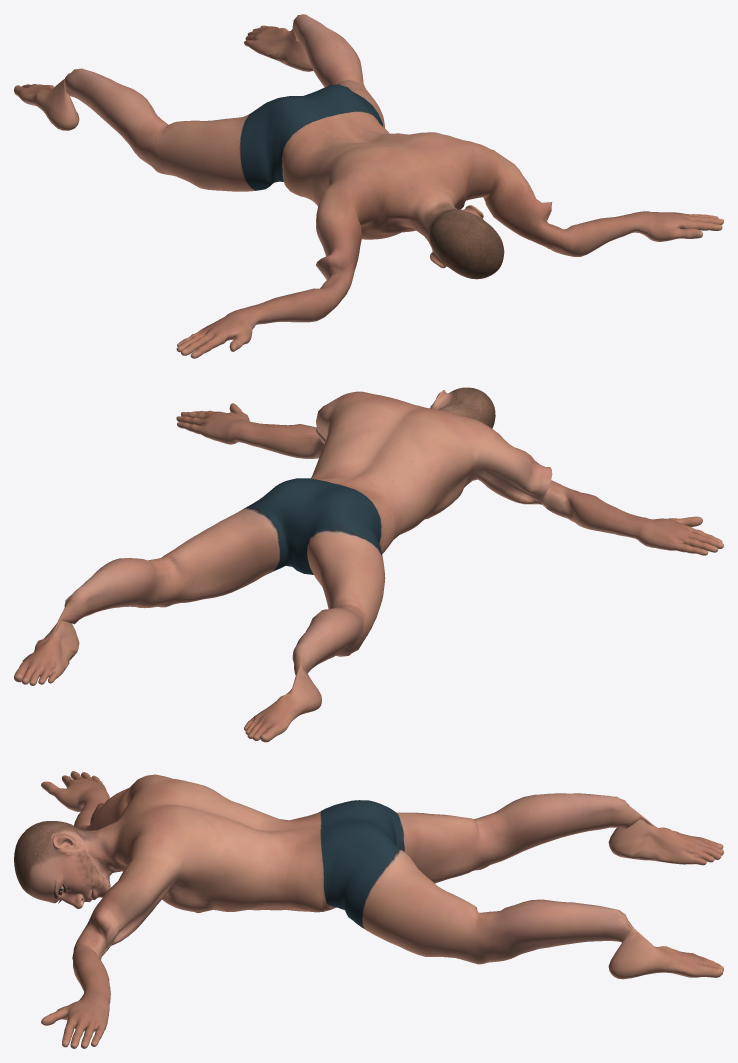
The model's file is a_prone_spread.glb.
3 renders of one model, top to bottom at view 1: azimuth 30°, elevation 25°; view 2: azimuth 150°, elevation 25°; view 3: azimuth 270°, elevation 25°, orthographic. The views are drawn at different scales.
Parts seen in each view (by area): view 1: Body; view 2: Body; view 3: Body.
Boxes of the visible parts, box(x1,y1,x2,y2) form: Body: box(14, 14, 723, 358); Body: box(14, 387, 723, 742); Body: box(14, 771, 723, 1048).
Size of the model in its own units: 1.65 by 0.3296 by 1.81.
2 materials, 2 textured.
